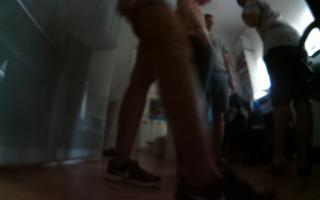person: (103, 1, 257, 200), (234, 1, 320, 180), (203, 12, 235, 168), (175, 1, 211, 96)
